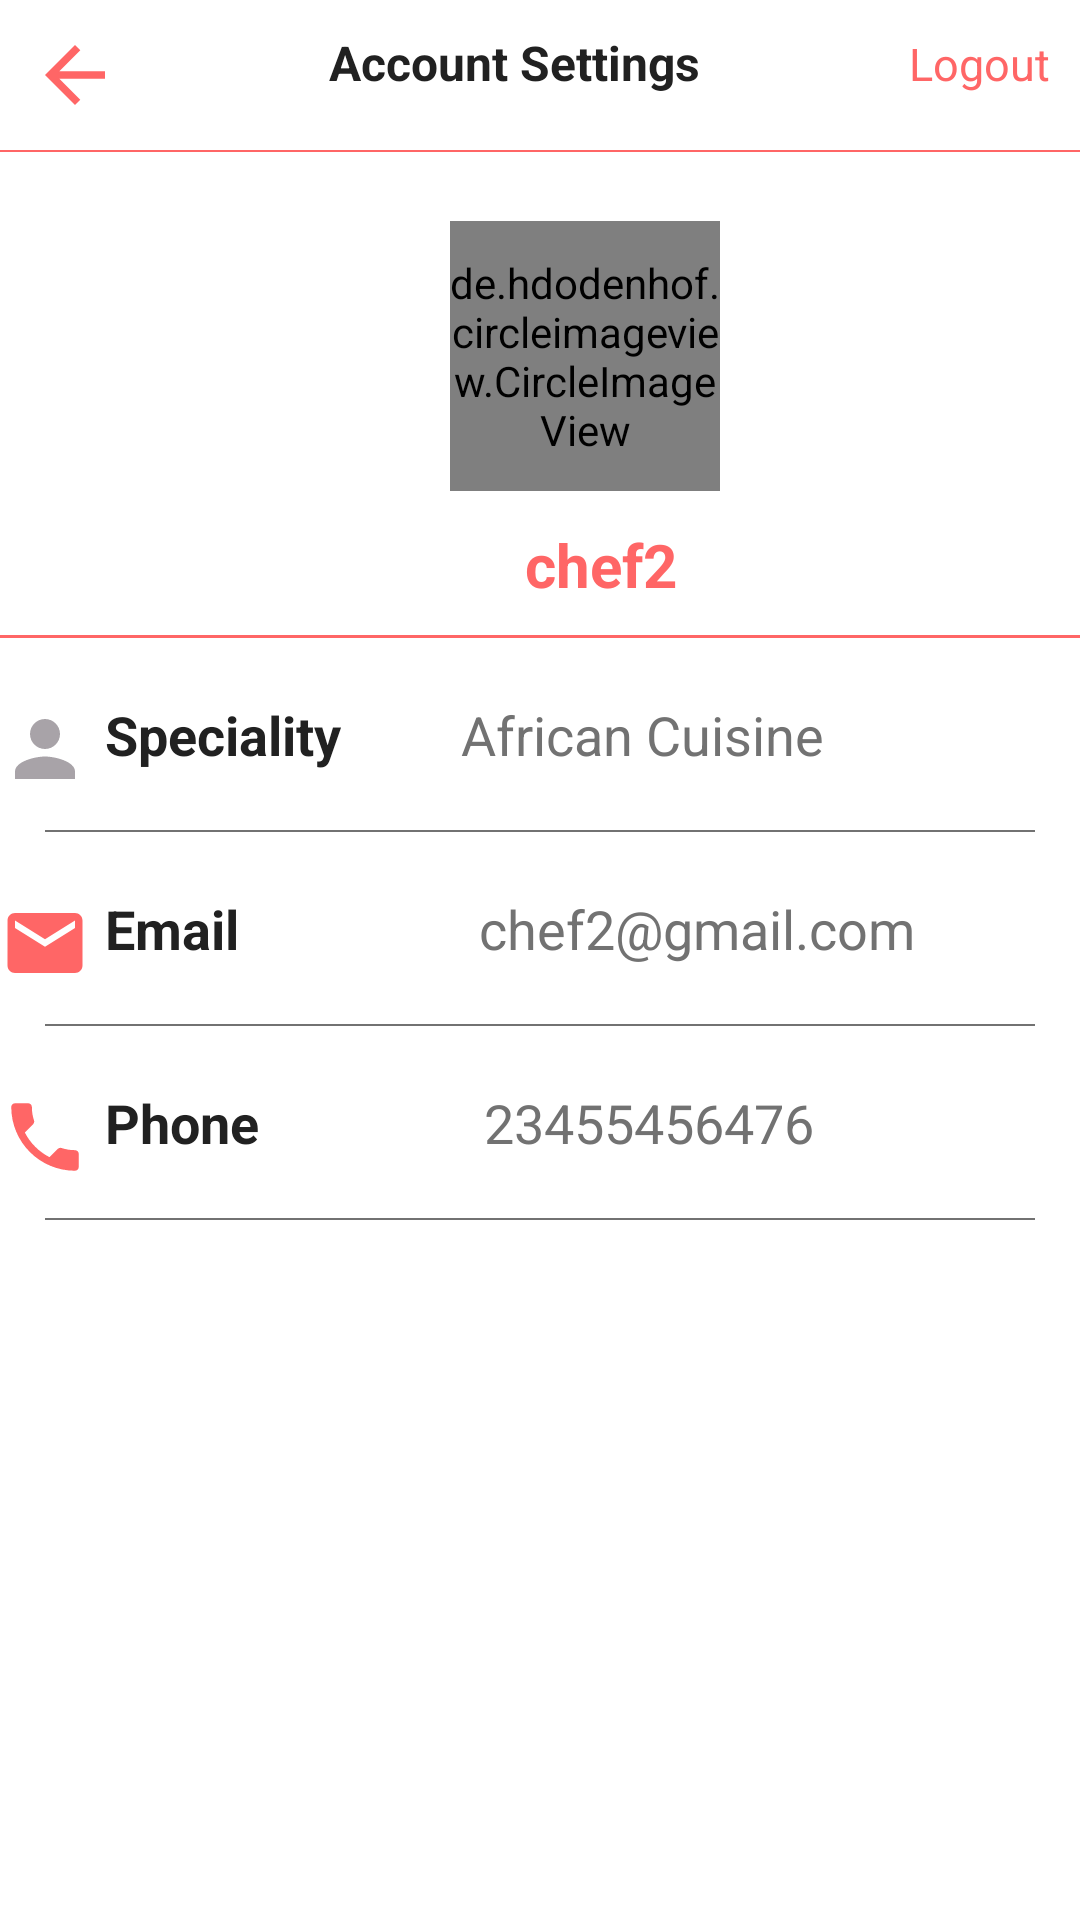

Icons on this 1080*1920 Android screen, each with its box as detection(x1, y1, x2, y2):
arrow: detection(45, 45, 105, 105)
person: detection(15, 719, 75, 779)
